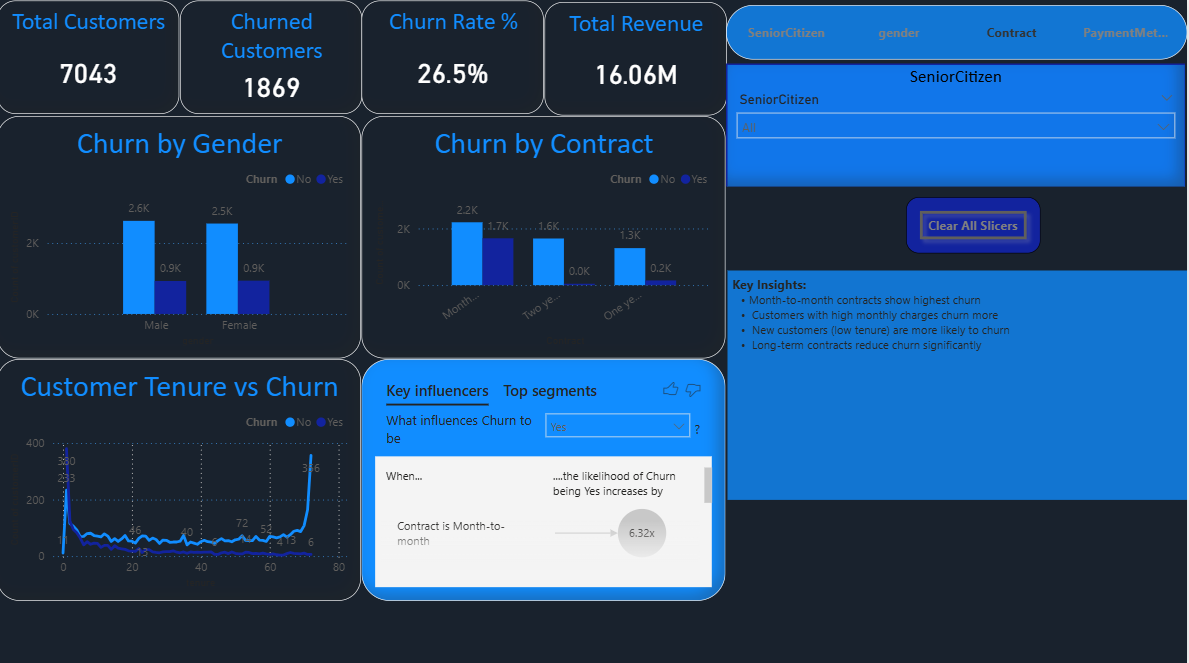

The page's visual inventory and layout, read from the dashboard file:
{"tool":"powerbi","page":{"name":"Telco Customer Churn Analysis Dashboard","canvas":[1280,720],"ordinal":1},"visuals":[{"type":"card","title":"Total Customers","fields":{"Values":["TelcoCustomerChurn.TotalCustomers"]},"box":[0,2,196,122],"z":0},{"type":"slicer","title":"gender","fields":{"Values":["TelcoCustomerChurn.gender"]},"box":[784.2,70,493.1,132],"z":0,"group":"g1"},{"type":"card","title":"Churned Customers","fields":{"Values":["TelcoCustomerChurn.TotalChurned"]},"box":[196,2,196,122],"z":1000},{"type":"card","title":"Churn Rate %","fields":{"Values":["TelcoCustomerChurn.ChurnRate"]},"box":[392,2,196,122],"z":2000},{"type":"card","title":"Total Revenue","fields":{"Values":["TelcoCustomerChurn.TotalRevenue"]},"box":[588,4,196,122],"z":3000},{"type":"clusteredColumnChart","title":"Churn by Gender","fields":{"Category":["TelcoCustomerChurn.gender"],"Series":["TelcoCustomerChurn.Churn"],"Y":["CountNonNull(TelcoCustomerChurn.customerID)"]},"box":[0,125.7,391.3,260.9],"z":4000},{"type":"lineChart","title":"Customer Tenure vs Churn","fields":{"Category":["TelcoCustomerChurn.tenure"],"Y":["CountNonNull(TelcoCustomerChurn.customerID)"],"Series":["TelcoCustomerChurn.Churn"]},"box":[0,386.5,391.3,260],"z":5000},{"type":"clusteredColumnChart","title":"Churn by Contract","fields":{"Category":["TelcoCustomerChurn.Contract"],"Series":["TelcoCustomerChurn.Churn"],"Y":["CountNonNull(TelcoCustomerChurn.customerID)"]},"box":[391.3,125.7,391,260.9],"z":6000},{"type":"keyDriversVisual","fields":{"Target":["TelcoCustomerChurn.Churn"],"ExplainBy":["TelcoCustomerChurn.Contract","Sum(TelcoCustomerChurn.MonthlyCharges)","Sum(TelcoCustomerChurn.tenure)","TelcoCustomerChurn.PaymentMethod"]},"box":[391.3,386.5,391,260],"z":7000},{"type":"bookmarkNavigator","box":[784.2,6.4,496.3,58.9],"z":8000},{"type":"group","id":"g1","title":"Slicer","box":[783.9,67.8,495.2,134.3],"z":9000},{"type":"textbox","box":[785.8,292.7,494.7,246.5],"z":10000},{"type":"actionButton","box":[950,214.5,166.1,56.5],"z":11000}]}

Visuals, with their boxes in screenshot pixels (x1, y1, x2, y2), scaled from the page's 1280x720 canvas onto the 1189x663 screenshot:
"Total Customers" card: x1=0, y1=2, x2=182, y2=114
"gender" slicer: x1=728, y1=64, x2=1186, y2=186
"Churned Customers" card: x1=182, y1=2, x2=364, y2=114
"Churn Rate %" card: x1=364, y1=2, x2=546, y2=114
"Total Revenue" card: x1=546, y1=4, x2=728, y2=116
"Churn by Gender" clusteredColumnChart: x1=0, y1=116, x2=363, y2=356
"Customer Tenure vs Churn" lineChart: x1=0, y1=356, x2=363, y2=595
"Churn by Contract" clusteredColumnChart: x1=363, y1=116, x2=727, y2=356
keyDriversVisual - TelcoCustomerChurn.Churn x TelcoCustomerChurn.Contract: x1=363, y1=356, x2=727, y2=595
bookmarkNavigator: x1=728, y1=6, x2=1188, y2=60
"Slicer" group: x1=728, y1=62, x2=1188, y2=186
textbox: x1=730, y1=270, x2=1188, y2=497
actionButton: x1=882, y1=198, x2=1037, y2=250
